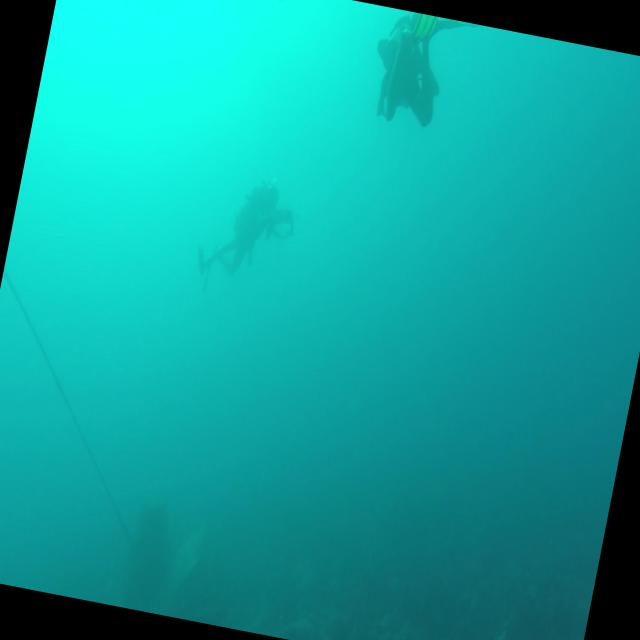human: (191, 166, 304, 305), (364, 7, 482, 136)
